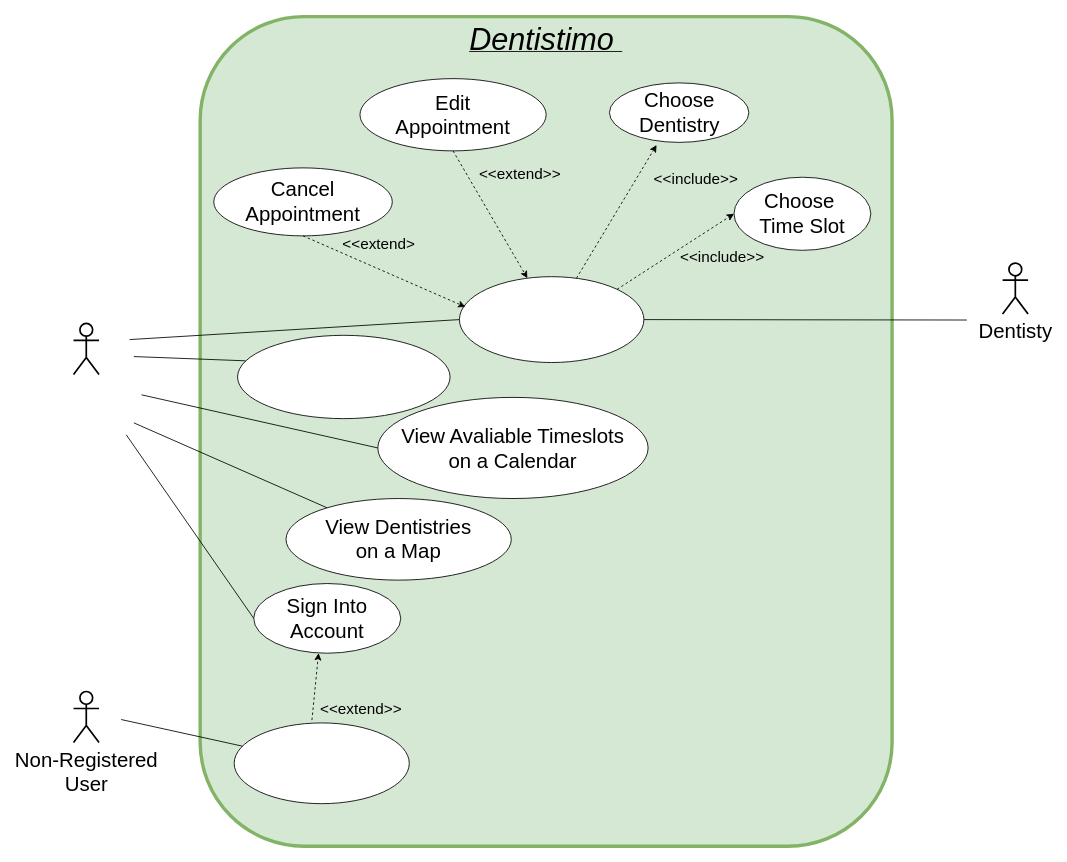
Image size: 1067x862. Some labels were removed from this diagram. Here are the shapes that lost their labels. From the top down, the centre of each, then its label:
At point (551, 319): "Book Appointment".
At point (85, 348): "Registered User".
At point (343, 376): "View My Booked Appointments".
At point (321, 763): "Register Account".
